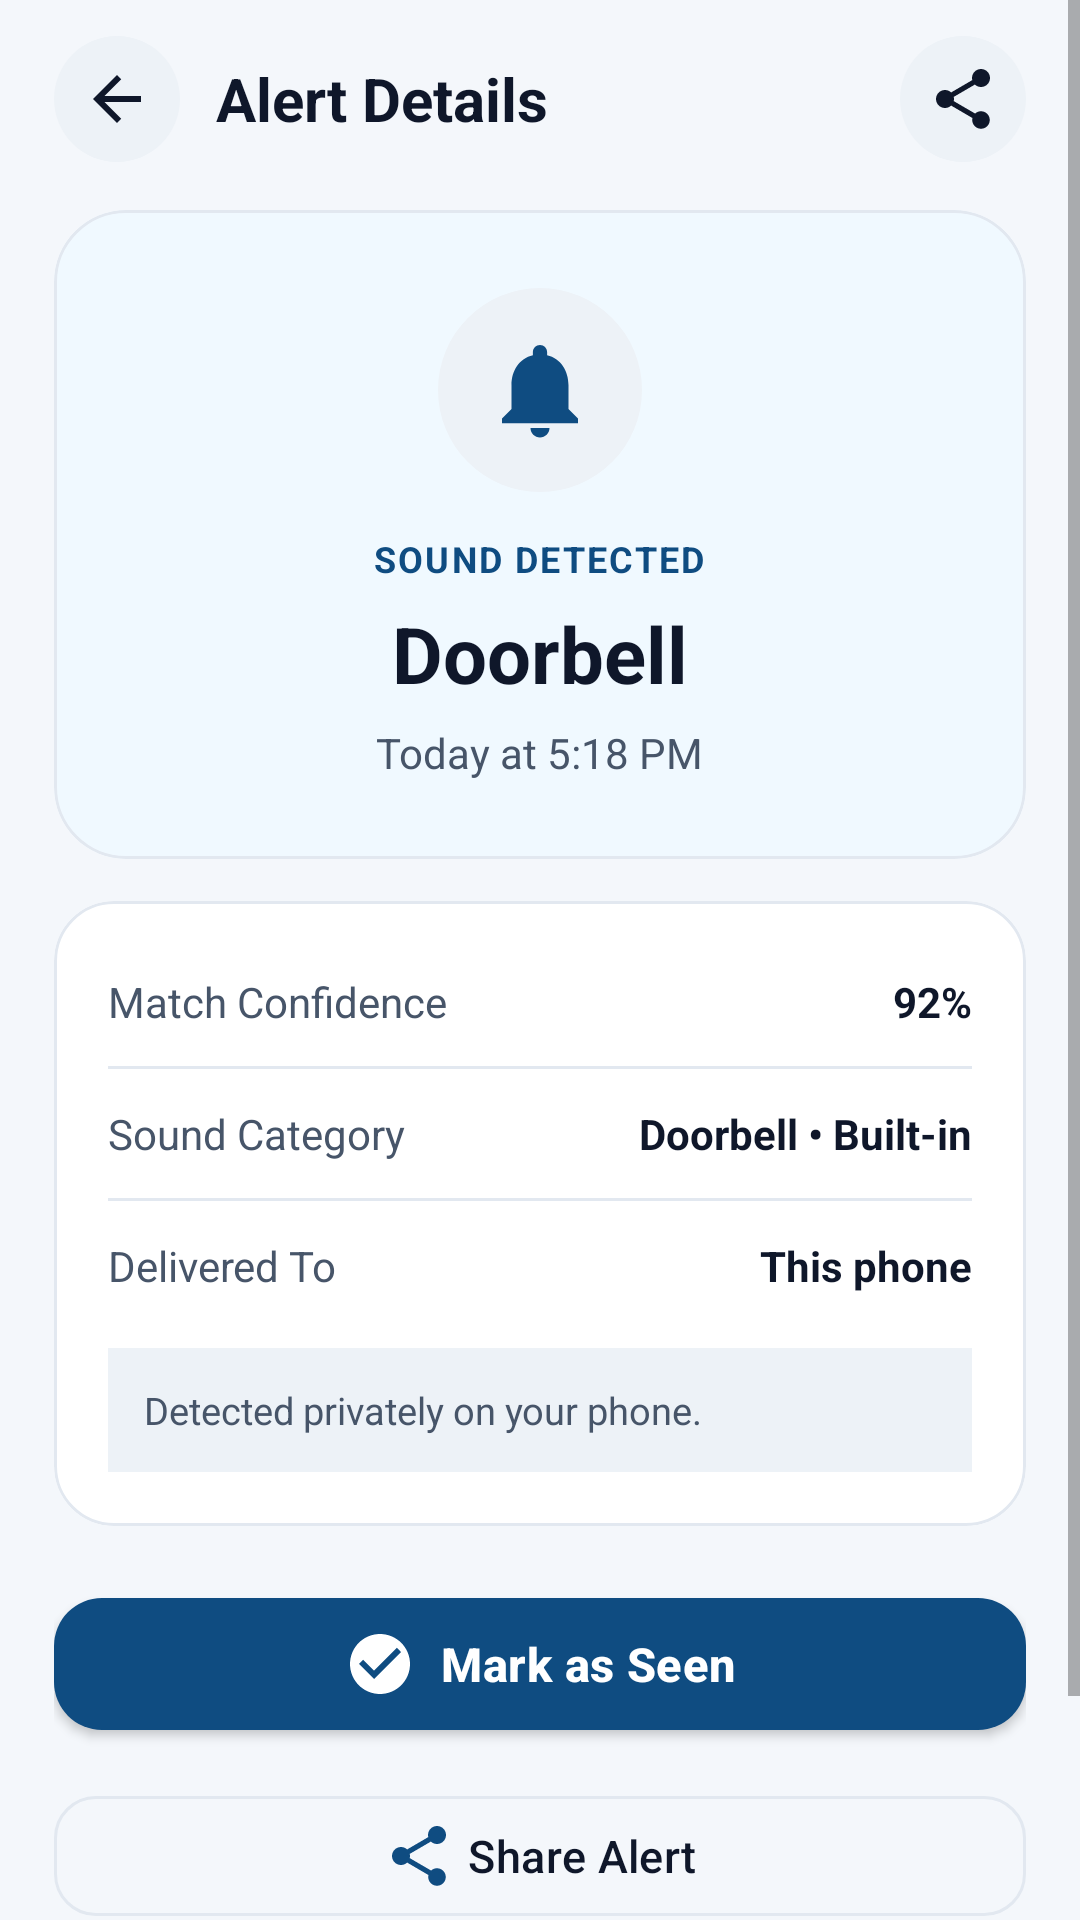

Where to tap for icons on this 1080 x 1920 app screen, as [x,y]:
Back: [117,99]
Sound Alert Icon: [540,391]
